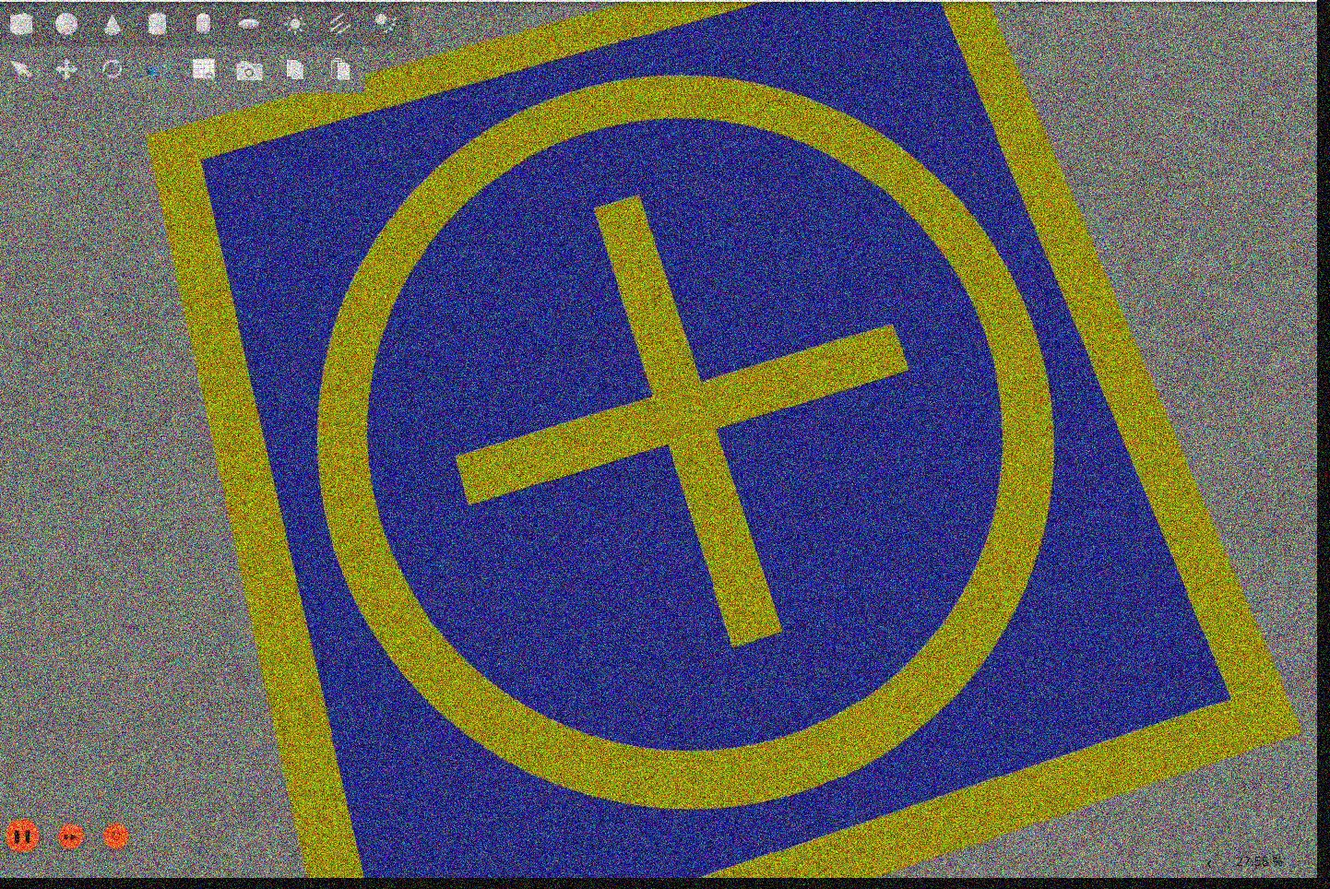small_base: (145, 1, 1302, 879)
